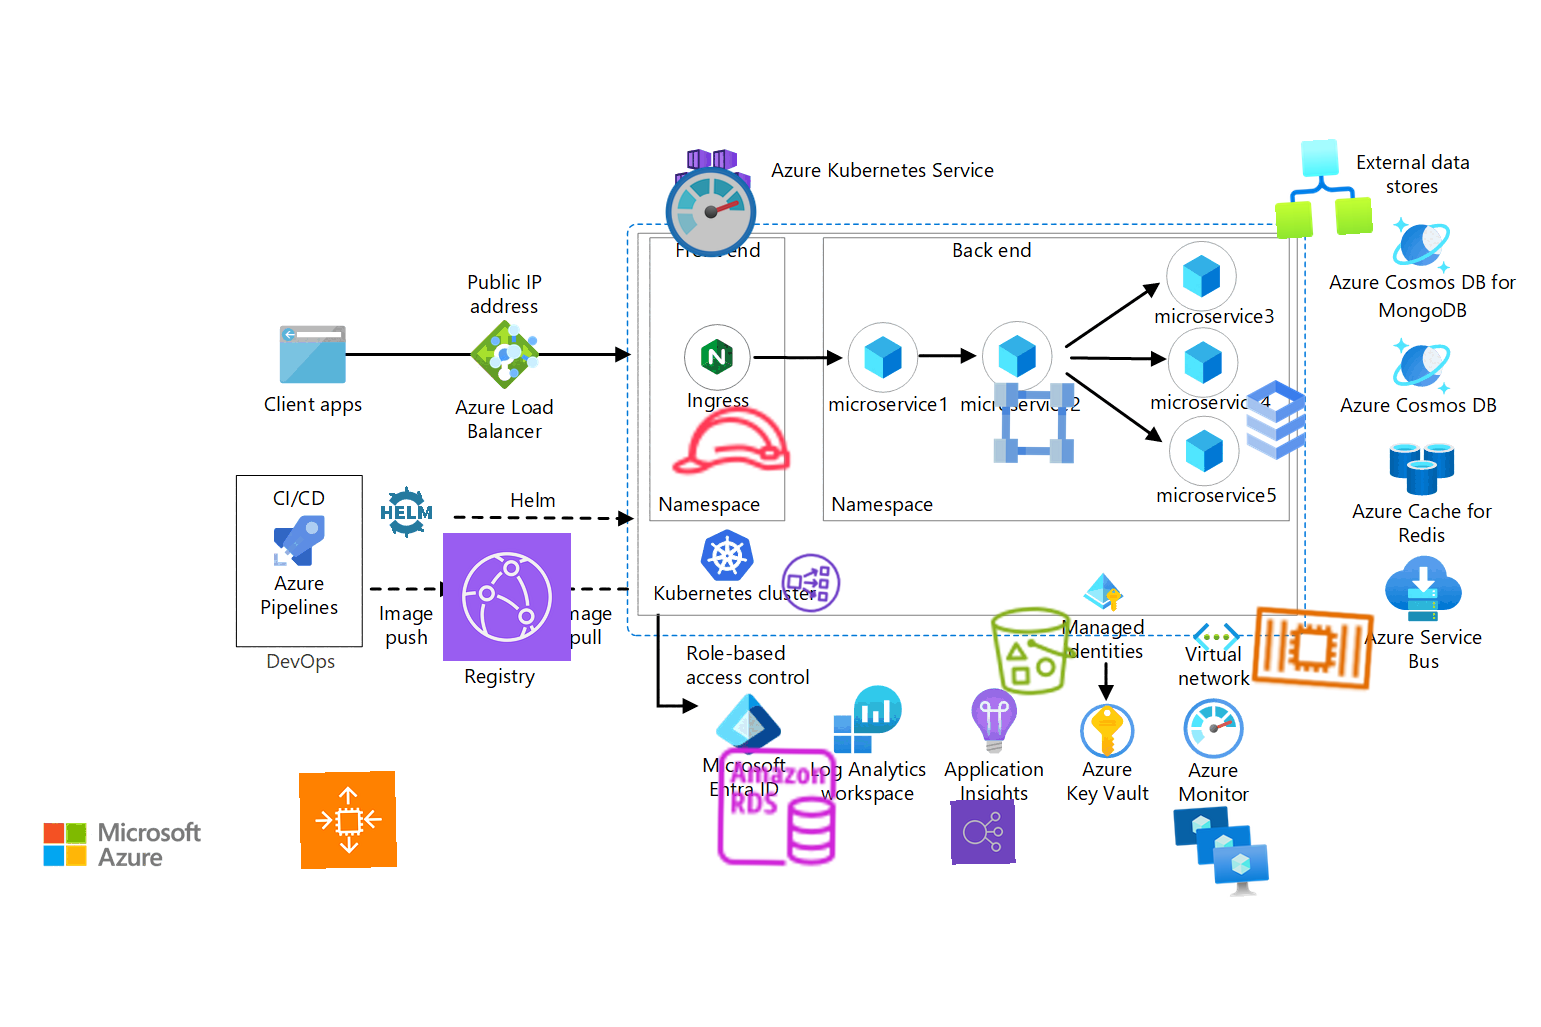aws_amazon_cloudfront: (442, 532, 572, 663)
aws_amazon_ec2_auto_scaling: (298, 770, 398, 870)
aws_aurora_amazon_rds_instance: (711, 742, 842, 872)
aws_elastic_container_service_container_2: (1244, 579, 1382, 718)
aws_elastic_load_balancing: (950, 799, 1016, 865)
aws_elastic_load_balancing_network_load_balancer: (776, 548, 846, 618)
aws_identity_access_management_role: (666, 376, 796, 505)
aws_simple_storage_service_bucket_with_objects: (984, 601, 1084, 701)
azure_logic_apps: (1269, 136, 1374, 240)
azure_monitor: (661, 162, 761, 262)
azure_vm_scale_sets: (1167, 798, 1272, 902)
gcp_cloud_sql: (1227, 371, 1324, 469)
gcp_pubsub: (481, 317, 547, 384)
gcp_virtual_private_cloud: (985, 374, 1083, 472)
